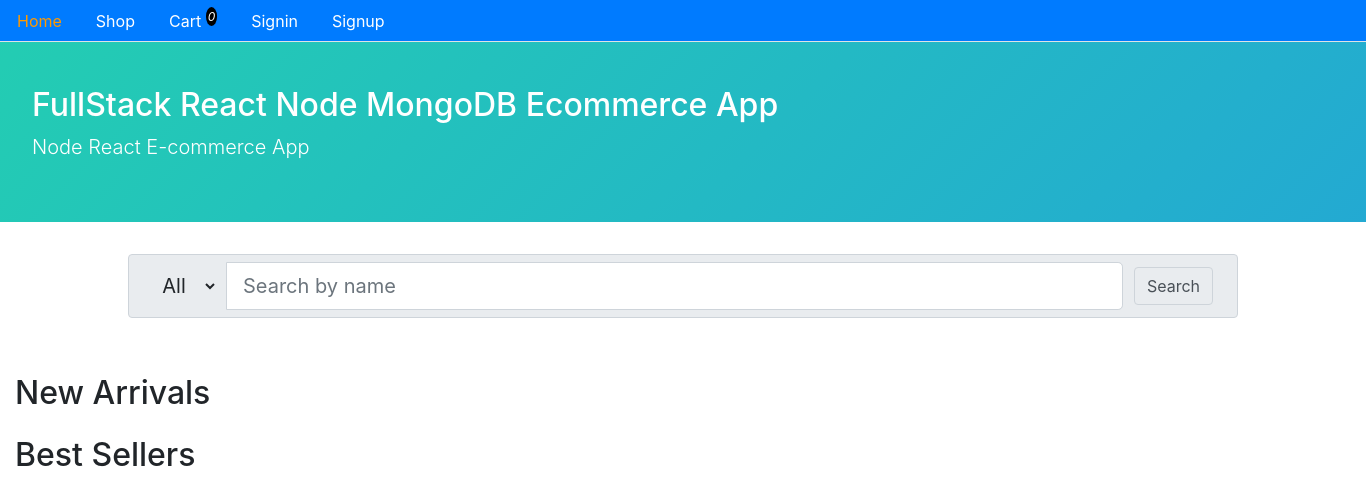
it: public navigation › navigates to the Signin page
The image size is (1366, 484).
Click the link "Signin".
click(275, 21)  # box [251,11,298,31]
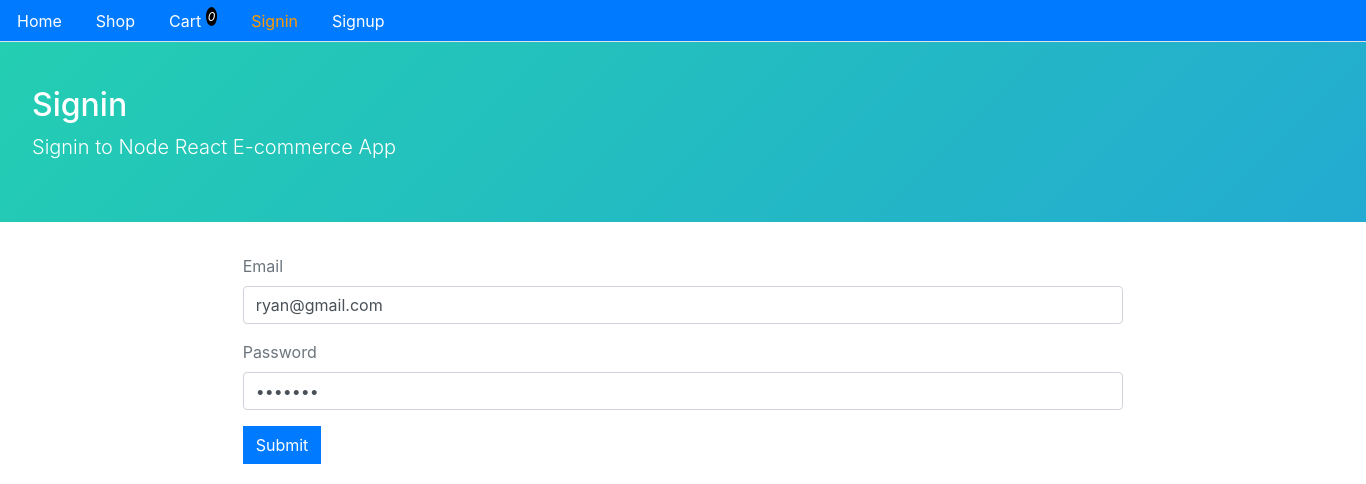
expect the button "Submit" is shown: met, box [243,426,321,464]
